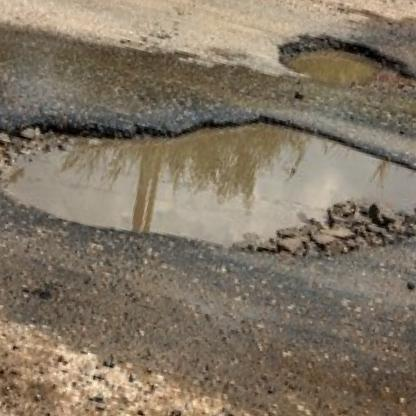pothole: (0, 45, 416, 312), (273, 22, 416, 105)
